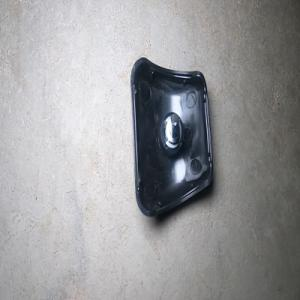LuggagePart: (129, 56, 214, 219)
